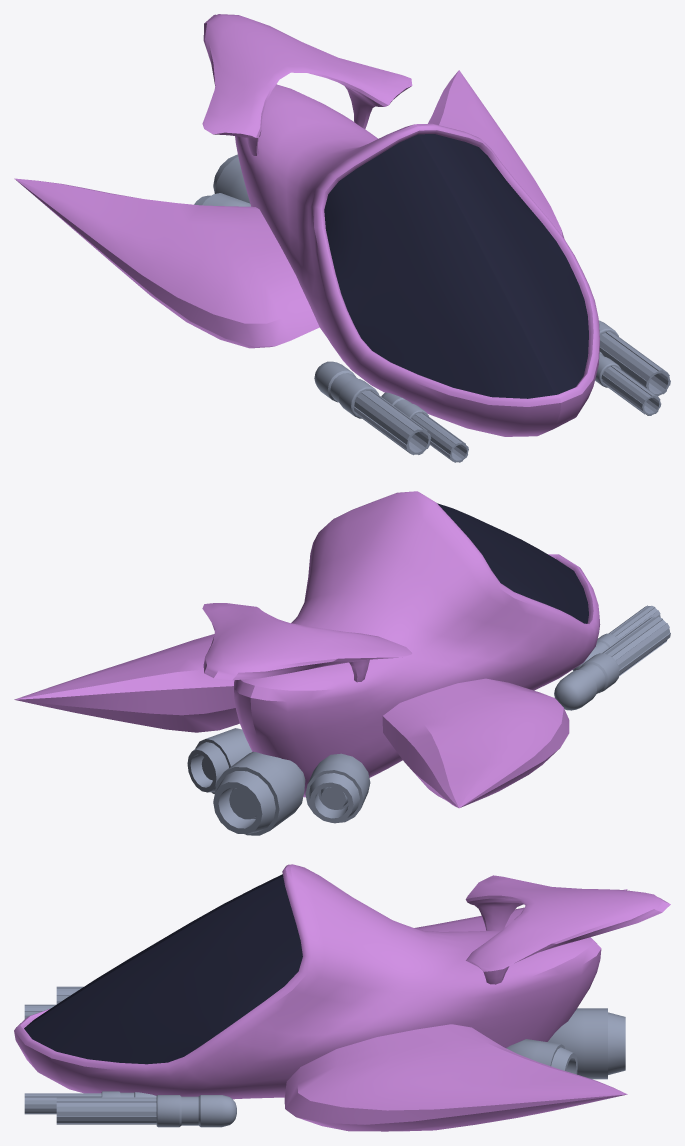
Rendered from SpaceJet.fbx.
3 views of the same model, one above another, from view 1: azimuth 30°, elevation 25°; view 2: azimuth 150°, elevation 25°; view 3: azimuth 270°, elevation 25° (orthographic). The views are drawn at different scales.
Visible parts, largest first — view 1: 平面, 円柱.003, 円柱.002, 円柱; view 2: 平面, 円柱.001, 円柱, 円柱.003, 円柱.002; view 3: 平面, 円柱.003, 円柱, 円柱.002, 円柱.001.
Part boxes in pixels (x1,y1,x2,y2): 平面: (14,14,599,436); 円柱.003: (314,320,670,455); 円柱.002: (381,351,661,462); 円柱: (213,154,250,203); 平面: (14,491,600,808); 円柱.001: (187,728,370,823); 円柱: (213,751,305,835); 円柱.003: (554,616,670,710); 円柱.002: (573,605,660,670); 平面: (14,864,670,1131); 円柱.003: (56,986,236,1127); 円柱: (548,1008,625,1079); 円柱.002: (24,1004,156,1114); 円柱.001: (506,1039,577,1074).
Bounding box in the file's own units: 778 × 388 × 1052.
